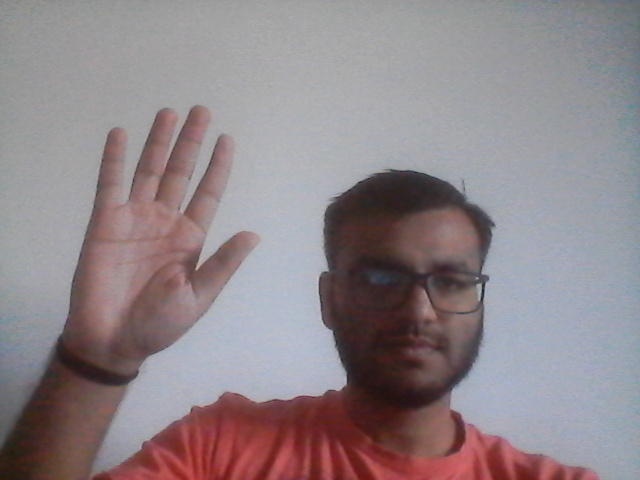Hello: (62, 98, 264, 356)
